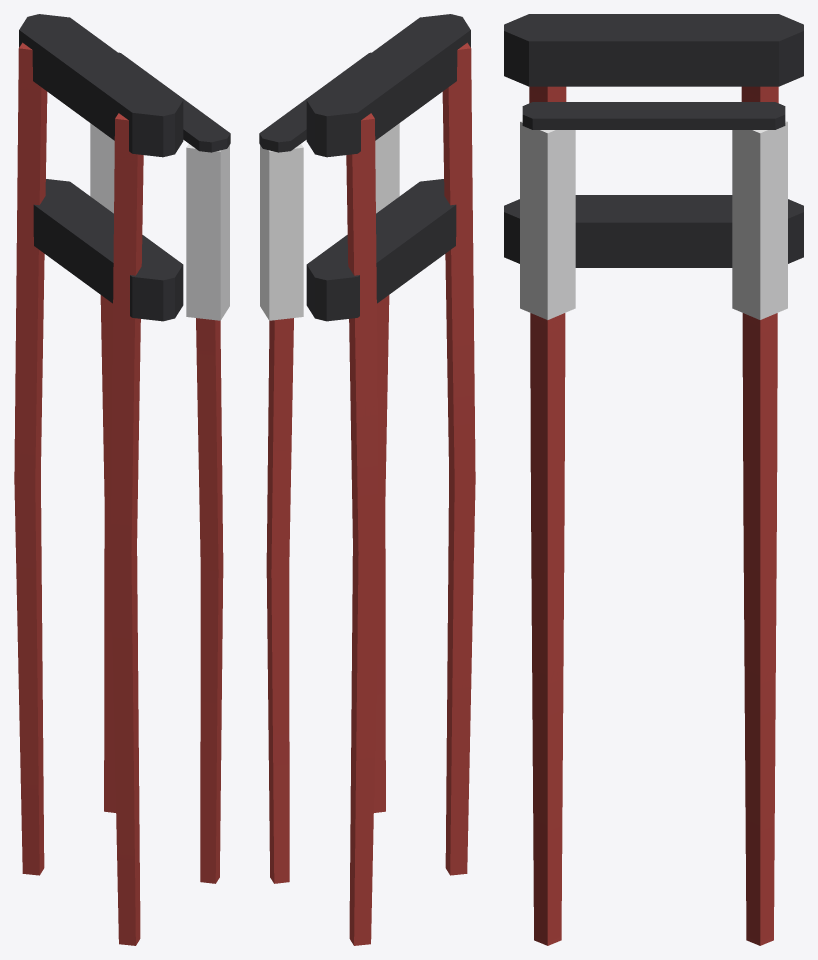
Rendered from bobber_springer_short_upper_lod2.glb.
3 views of the same model, side by side, from view 1: azimuth 30°, elevation 25°; view 2: azimuth 150°, elevation 25°; view 3: azimuth 270°, elevation 25° (orthographic). The views are drawn at different scales.
Parts seen in each view (by area): view 1: bobber_springer_short_upper_lod2; view 2: bobber_springer_short_upper_lod2; view 3: bobber_springer_short_upper_lod2.
Boxes of the visible parts, box(x1,y1,x2,y2) form: bobber_springer_short_upper_lod2: box(14, 14, 230, 945); bobber_springer_short_upper_lod2: box(259, 14, 475, 945); bobber_springer_short_upper_lod2: box(504, 14, 803, 945).
Size of the model in its own units: 0.1217 by 0.8156 by 0.24.
